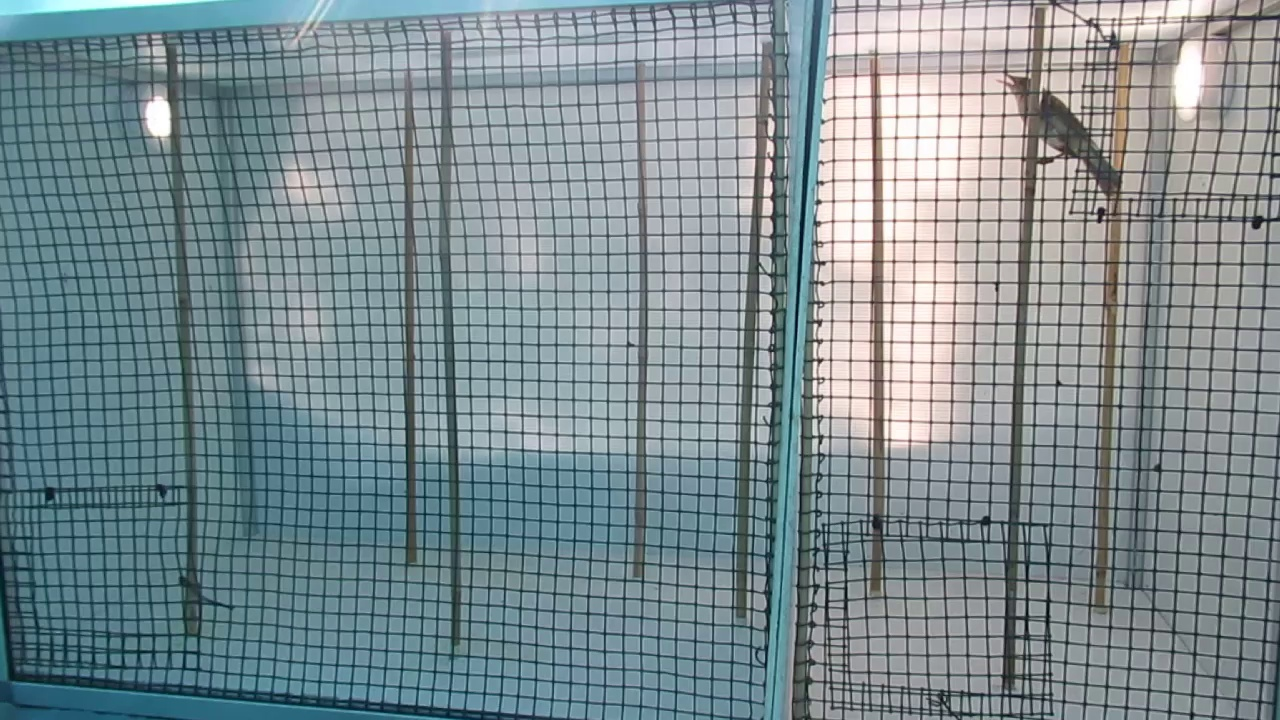bird: (1000, 69, 1110, 199)
stick: (1002, 13, 1044, 684), (733, 46, 777, 617), (1090, 45, 1129, 605), (166, 49, 199, 630), (441, 36, 463, 642), (401, 78, 421, 564), (866, 59, 883, 588), (634, 62, 649, 577)
